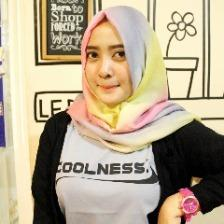Non Syar-i: (62, 7, 201, 154)
